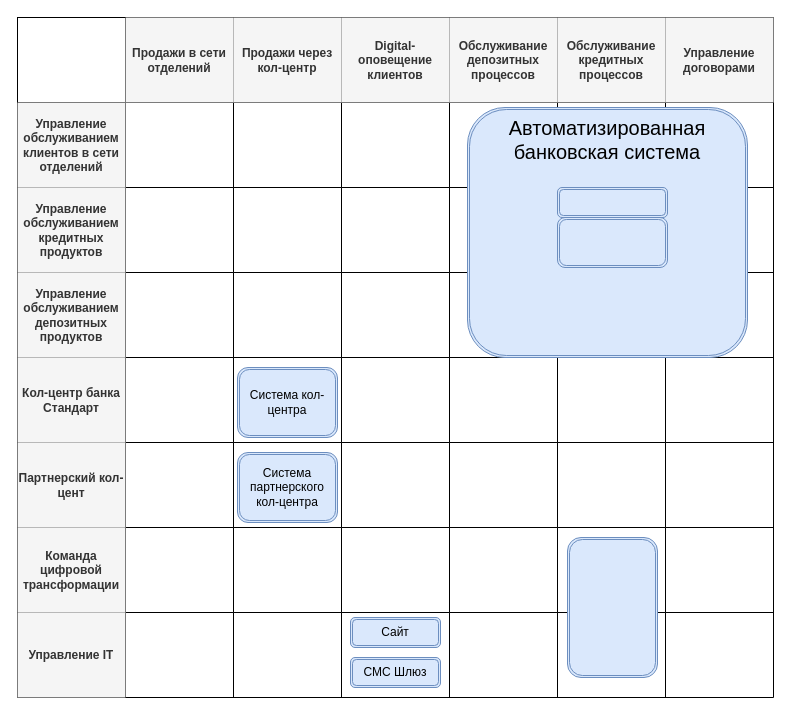
The diagram is 791 pixels wide and 715 high, and some of its shapes have lost their labels. The centre of each missing label's shape, as x and y in pixels:
Интернет банк: (x=612, y=607)
Кредитный конвейер: (x=612, y=202)
Система кредитного скоринга: (x=612, y=242)
